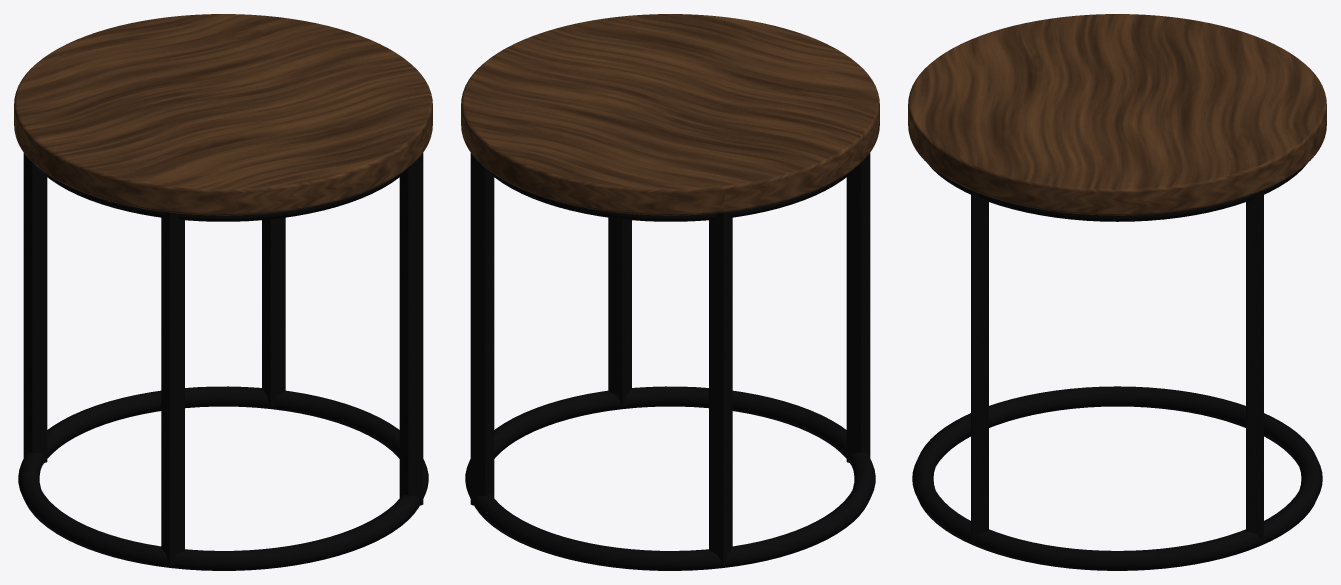
Rendered from industrial_mesa_lateral.glb.
3 renders of one model, left to right at view 1: azimuth 30°, elevation 25°; view 2: azimuth 150°, elevation 25°; view 3: azimuth 270°, elevation 25°, orthographic.
Visible parts, largest first — view 1: mesa_lateral; view 2: mesa_lateral; view 3: mesa_lateral.
Part boxes in pixels (<box>): mesa_lateral: <box>14,14,432,570</box>; mesa_lateral: <box>461,14,879,570</box>; mesa_lateral: <box>908,14,1326,570</box>.
Size of the model in its own units: 0.51 by 0.52 by 0.51.
Materials: 2 (2 with a texture image).
